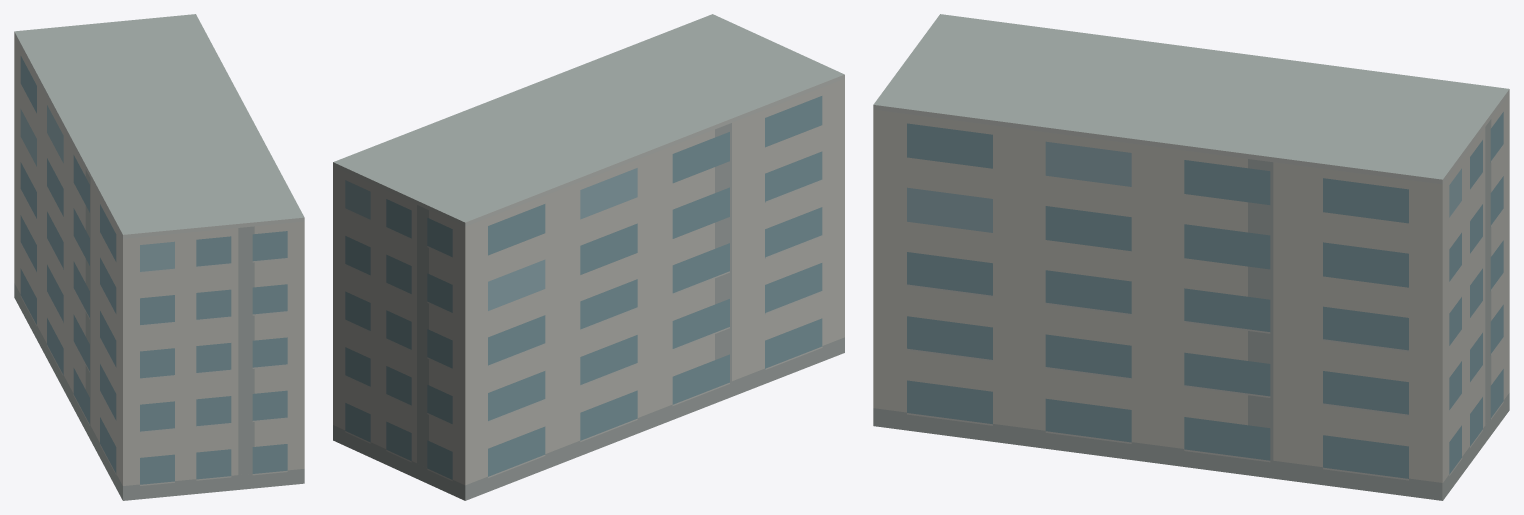
Rendered from residential-e43b53a6-bd07-4f3c-b5f2-4e56cfa497fb.glb.
The picture shows the model from 3 angles, left to right: view 1: azimuth 30°, elevation 25°; view 2: azimuth 150°, elevation 25°; view 3: azimuth 270°, elevation 25°; orthographic projection. The views are drawn at different scales.
Visible parts, largest first — view 1: residential-e43b53a6-bd07-4f3c-b5f2-4e56cfa497fb.tmp; view 2: residential-e43b53a6-bd07-4f3c-b5f2-4e56cfa497fb.tmp; view 3: residential-e43b53a6-bd07-4f3c-b5f2-4e56cfa497fb.tmp.
Part boxes in pixels (x1,y1,x2,y2): residential-e43b53a6-bd07-4f3c-b5f2-4e56cfa497fb.tmp: (14, 14, 304, 500); residential-e43b53a6-bd07-4f3c-b5f2-4e56cfa497fb.tmp: (333, 14, 844, 500); residential-e43b53a6-bd07-4f3c-b5f2-4e56cfa497fb.tmp: (873, 14, 1509, 500).
Bounding box in the file's own units: 17.7 × 16 × 28.73.
